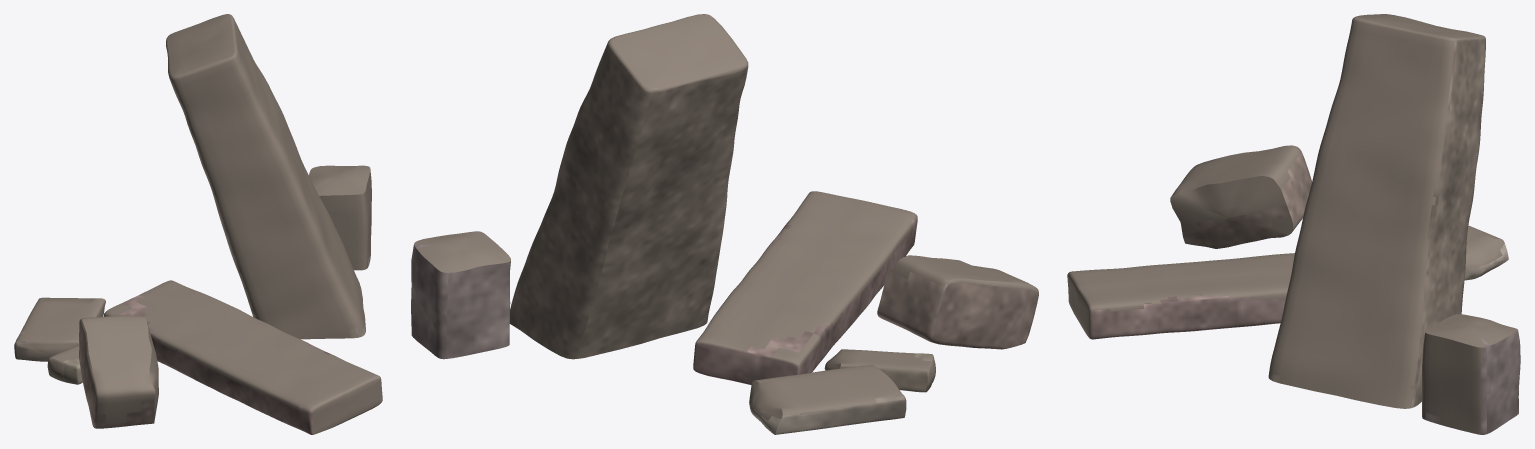
File: VerHenge01.glb
3 renders of one model, left to right at view 1: azimuth 30°, elevation 25°; view 2: azimuth 150°, elevation 25°; view 3: azimuth 270°, elevation 25°, orthographic. The views are drawn at different scales.
Parts seen in each view (by area): view 1: VerHenge01; view 2: VerHenge01; view 3: VerHenge01.
Part boxes in pixels (<box>): VerHenge01: <box>14,14,382,434</box>; VerHenge01: <box>411,14,1038,434</box>; VerHenge01: <box>1067,14,1520,434</box>.
Size of the model in its own units: 5.97 by 3.92 by 5.16.
Materials: 2 (1 with a texture image).
